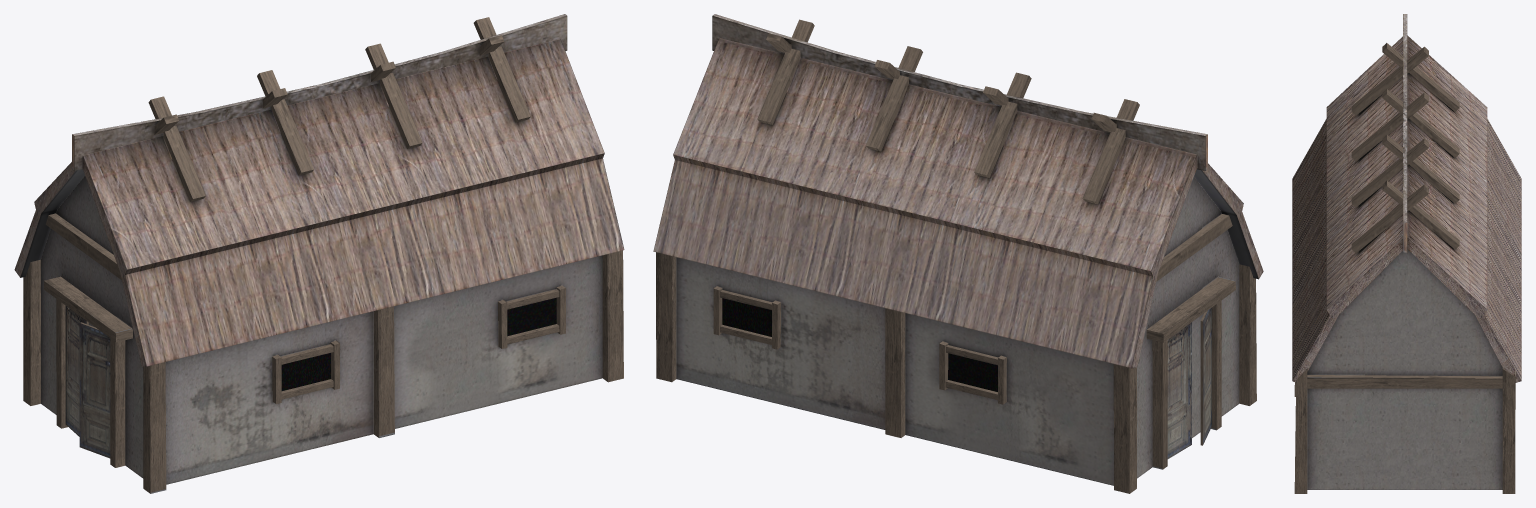
Rendered from ambar.FBX.
The picture shows the model from 3 angles, left to right: view 1: azimuth 30°, elevation 25°; view 2: azimuth 150°, elevation 25°; view 3: azimuth 270°, elevation 25°; orthographic projection. The views are drawn at different scales.
Visible parts, largest first — view 1: Object001; view 2: Object001; view 3: Object001.
Boxes of the visible parts, x1,y1,x2,y2 form: Object001: (14, 14, 624, 493); Object001: (653, 14, 1263, 493); Object001: (1292, 14, 1521, 493).
Size of the model in its own units: 98.37 by 45.67 by 61.27.
